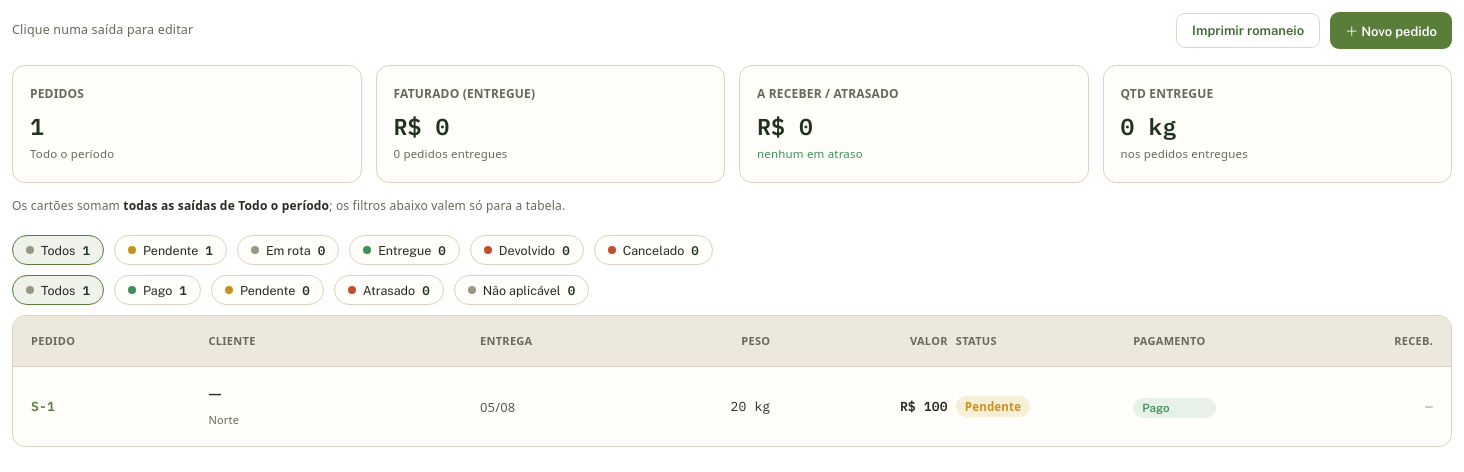
Test: SaidasLista — filtro por pagamento › nenhuma saida bate com os filtros combinados: mostra mensagem, nao uma tabela vazia muda
Check: the text "S-1" is shown, box [31,398,55,414]
Click the button "Cancelado 0" at {"x": 653, "y": 250}, box [594,235,713,265]
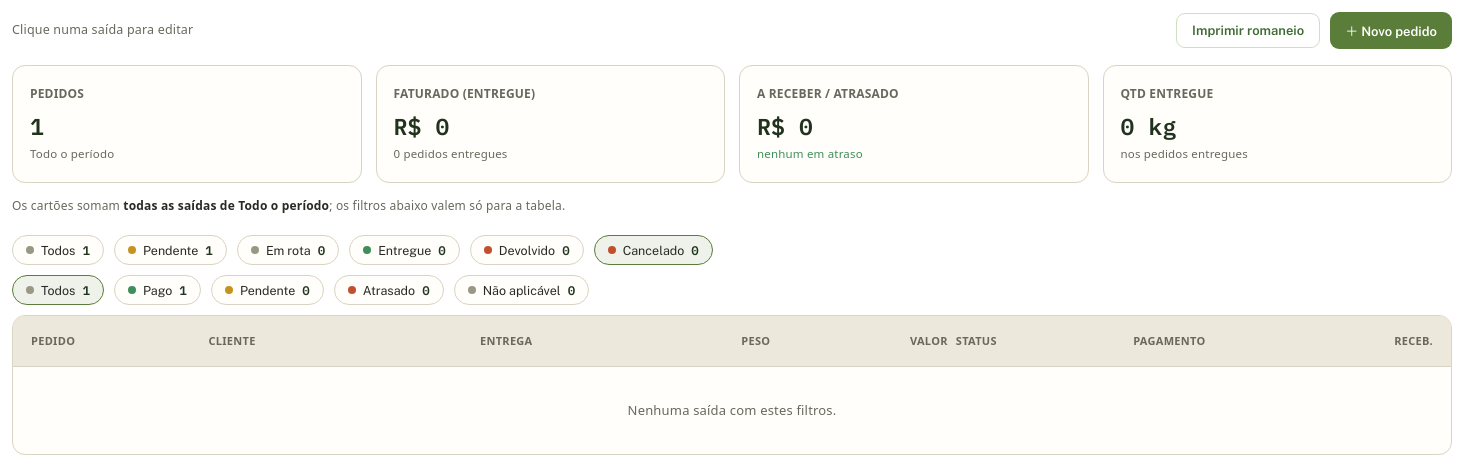
Check: the text "Nenhuma saída com estes filtros." is shown, box [628,402,836,420]
